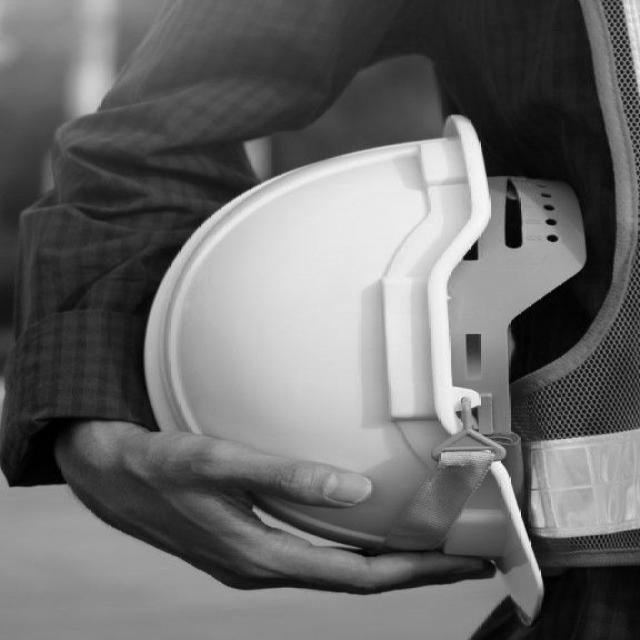construction helmet: (142, 116, 541, 606)
